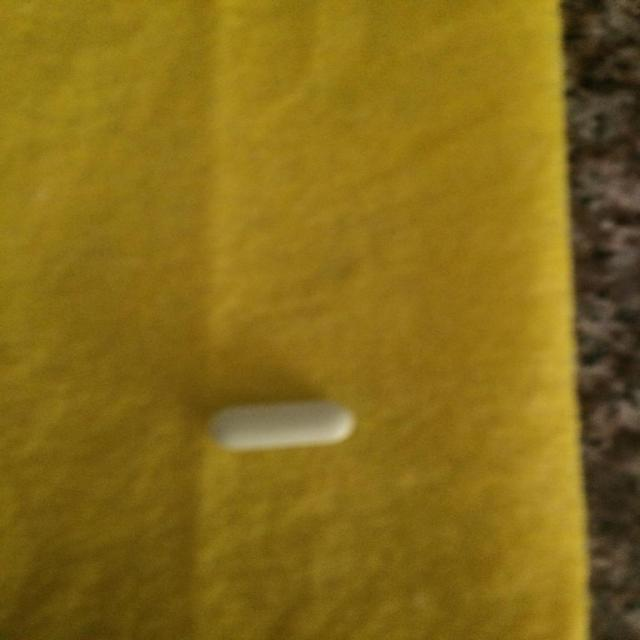pills: (200, 394, 369, 456)
